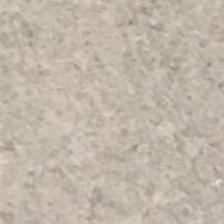Non_Crack: (7, 1, 224, 224)
